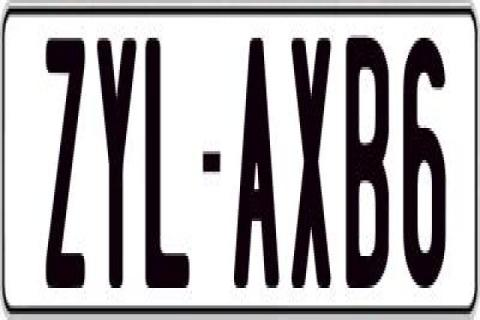0: (400, 38, 450, 300)
A: (233, 38, 279, 297)
B: (344, 29, 392, 288)
L: (146, 29, 198, 288)
X: (289, 38, 336, 288)
Y: (96, 32, 136, 296)
Z: (44, 38, 84, 294)
